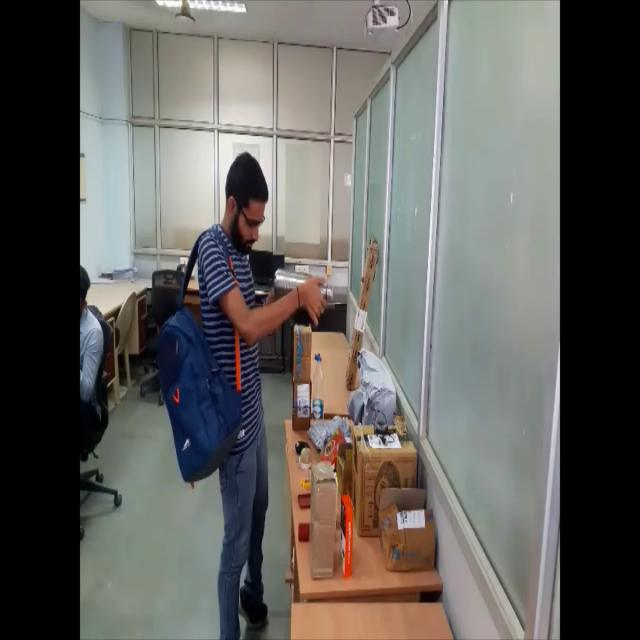normal: (155, 136, 328, 640)
